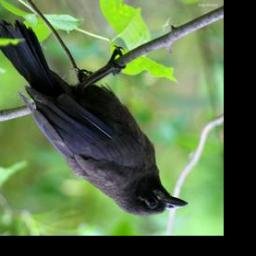Crow: (0, 18, 189, 218)
